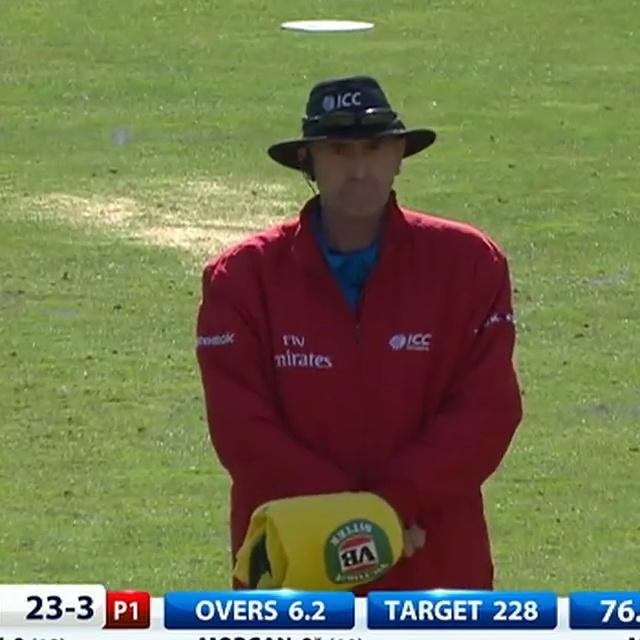umpire: (165, 49, 558, 594)
